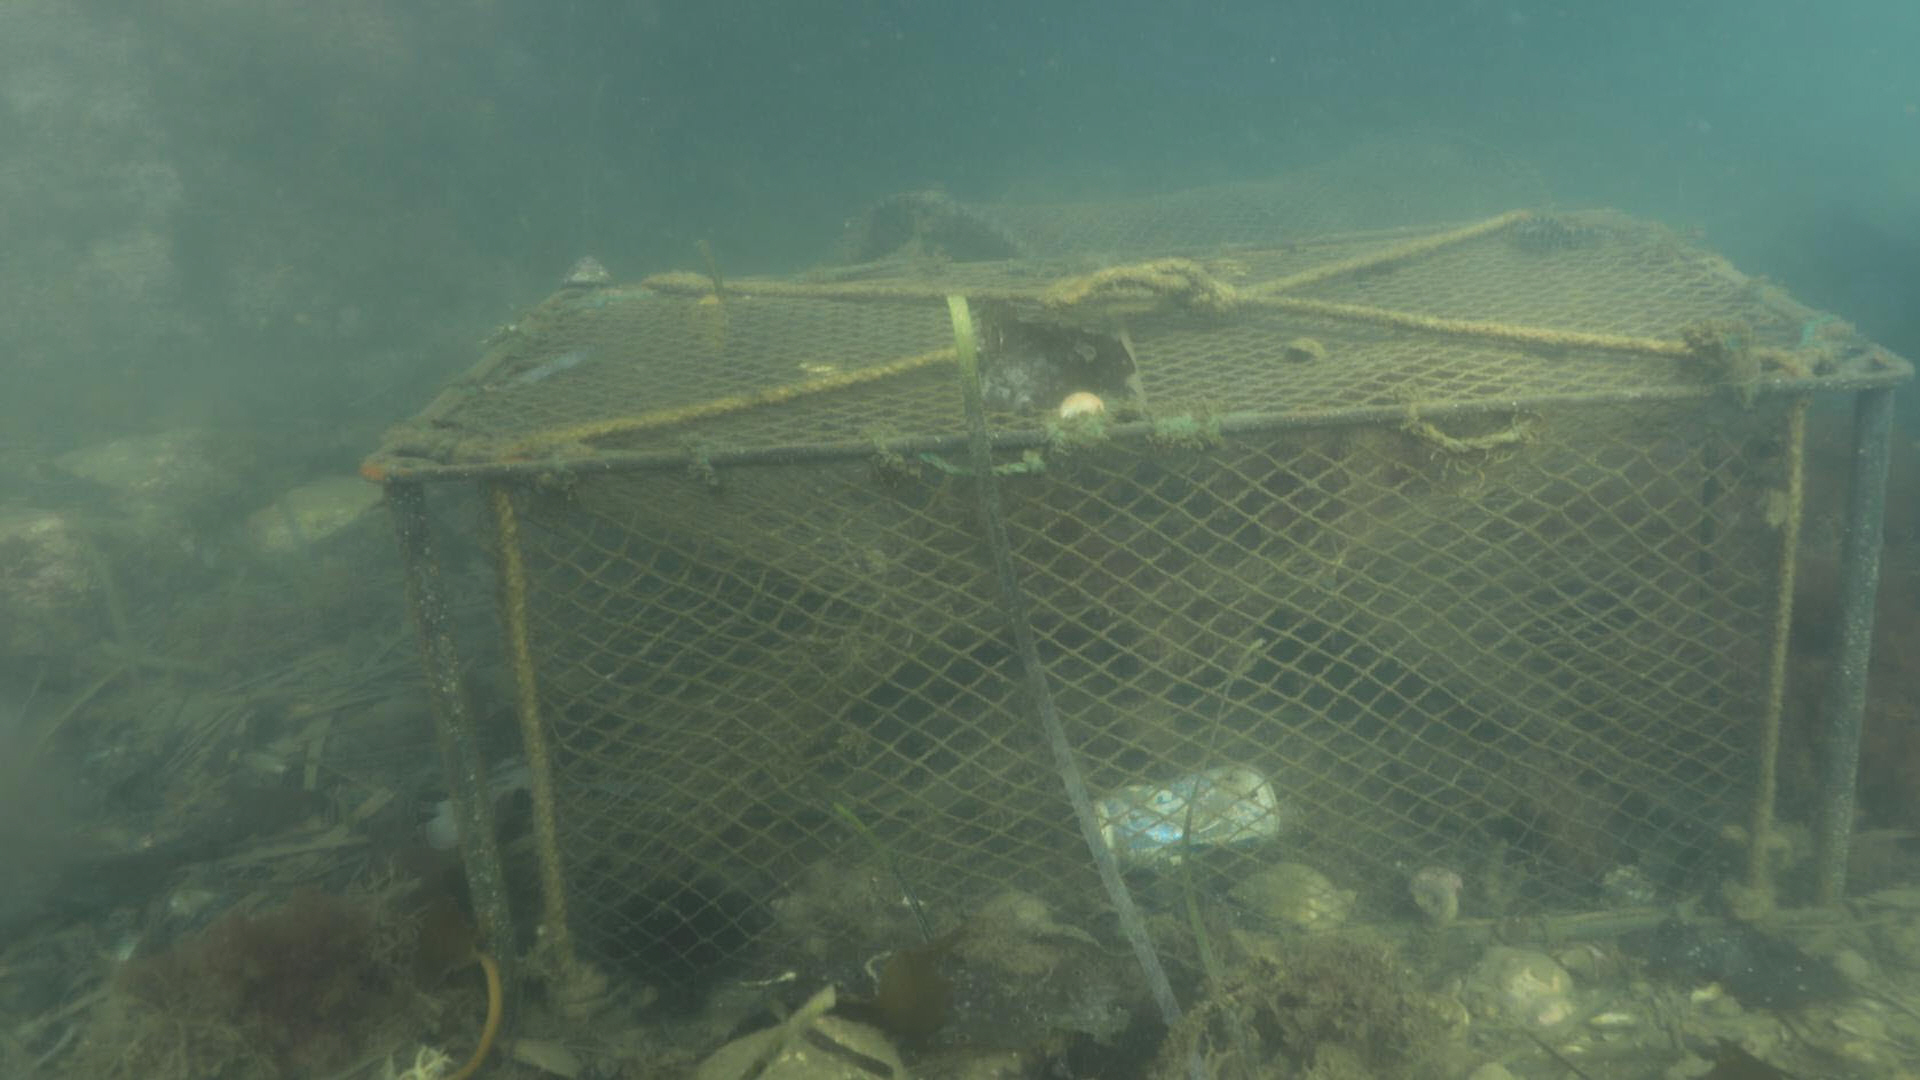rectangular fish trap: (357, 206, 1916, 1017)
spring fish trap: (837, 124, 1557, 258)
